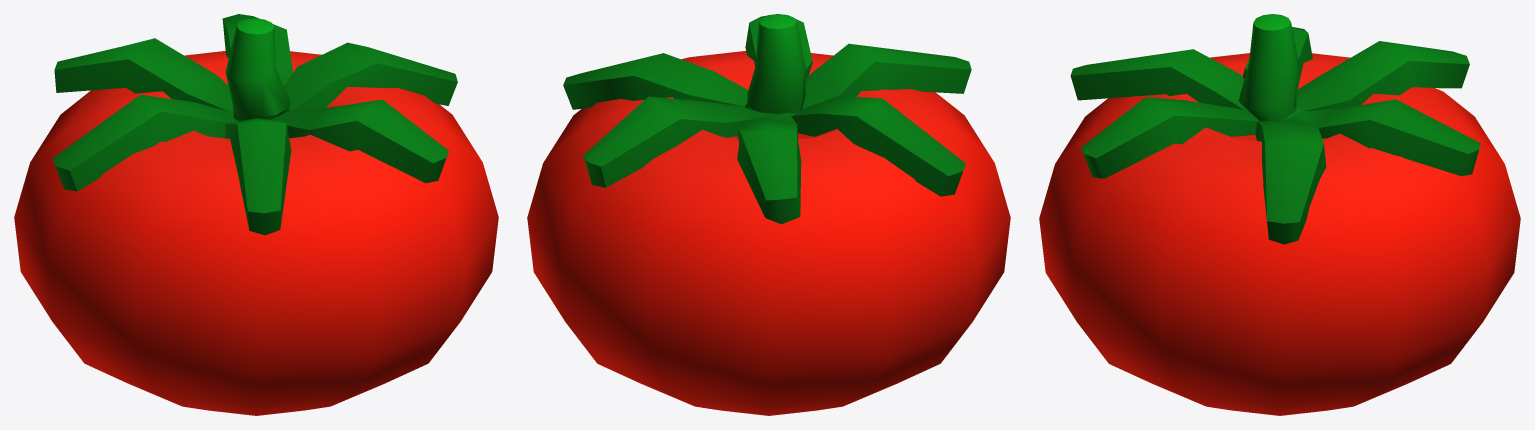
The model's file is Farm_Crop_Tomato_01.fbx.
The picture shows the model from 3 angles, left to right: view 1: azimuth 30°, elevation 25°; view 2: azimuth 150°, elevation 25°; view 3: azimuth 270°, elevation 25°; orthographic projection.
Visible parts, largest first — view 1: Farm_Crop_Tomato_01; view 2: Farm_Crop_Tomato_01; view 3: Farm_Crop_Tomato_01.
Boxes of the visible parts, box(x1,y1,x2,y2) form: Farm_Crop_Tomato_01: box(14, 14, 498, 415); Farm_Crop_Tomato_01: box(527, 14, 1010, 415); Farm_Crop_Tomato_01: box(1039, 14, 1520, 415).
Size of the model in its own units: 58.94 by 48.16 by 58.94.
